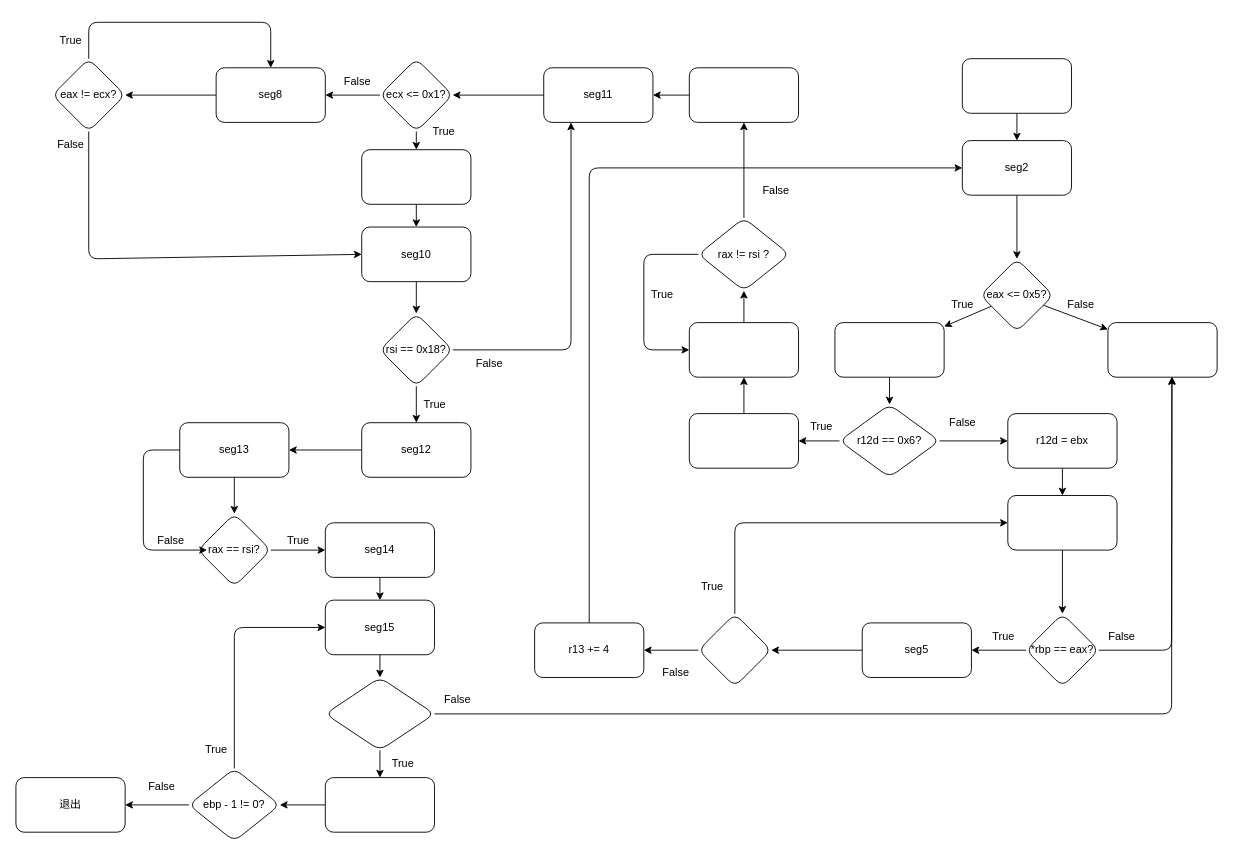
The diagram is 1233 pixels wide and 857 high, and some of its shapes have lost their labels. The box of each missing label's shape, as (x1, y1, x2, y2) in pixels:
*rbx >= eax?: (324, 677, 435, 750)
ebx <= 0x5?: (698, 613, 771, 687)
esi = 0: (688, 67, 799, 122)
explode_bomb 40103a: (1107, 322, 1217, 377)
seg1: (961, 58, 1072, 113)
seg16: (324, 777, 435, 832)
seg3: (834, 322, 944, 377)
seg4: (1007, 495, 1117, 550)
seg6: (688, 413, 799, 468)
seg7: (688, 322, 799, 377)
seg9: (361, 149, 471, 204)
